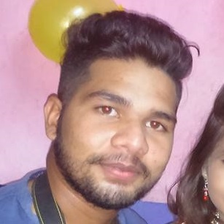no_mask: (63, 57, 171, 203)
